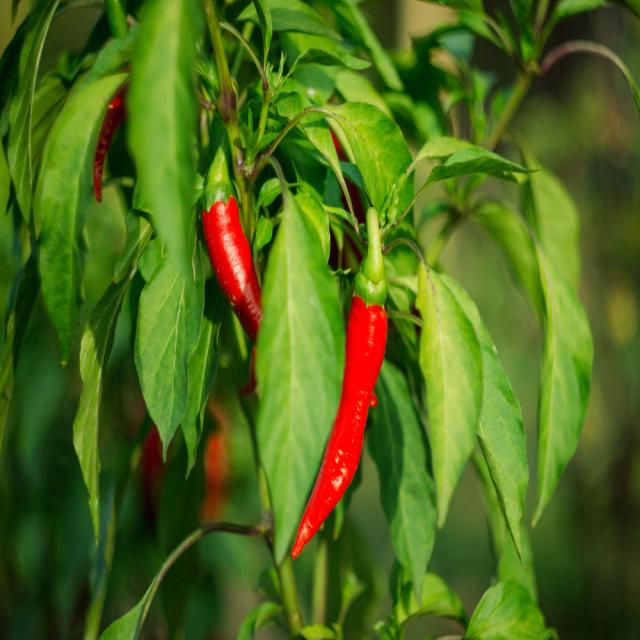Ripe: (292, 296, 388, 558), (202, 195, 262, 342)
